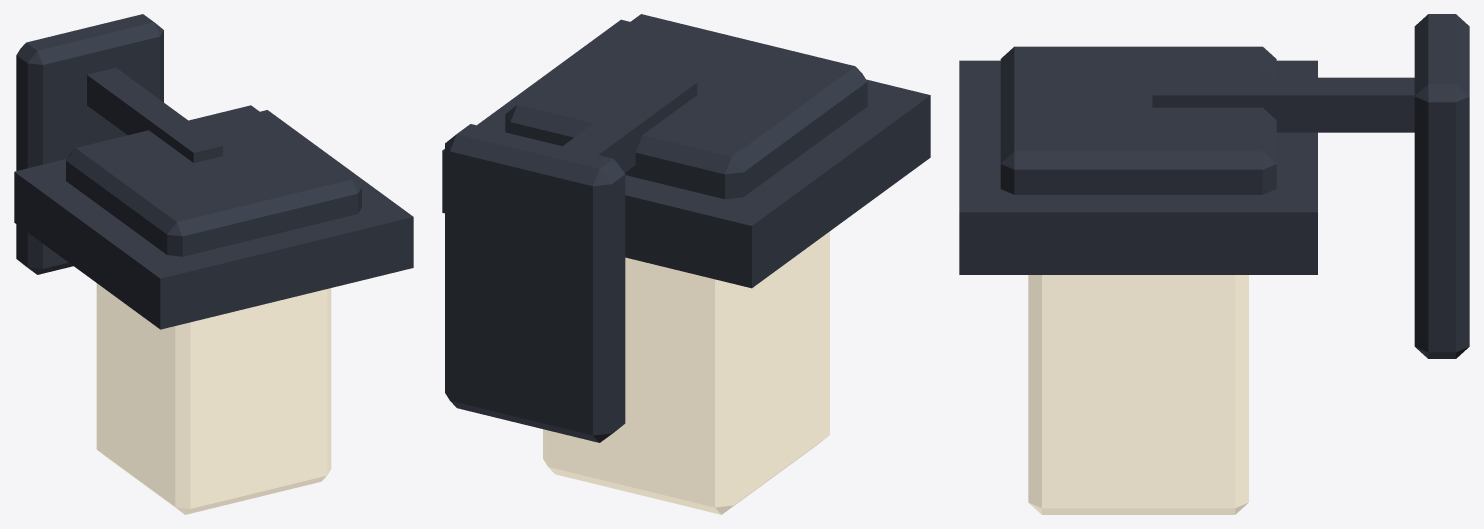
Rendered from wall_lantern.glb.
3 views of the same model, side by side, from view 1: azimuth 30°, elevation 25°; view 2: azimuth 150°, elevation 25°; view 3: azimuth 270°, elevation 25° (orthographic). The views are drawn at different scales.
Parts seen in each view (by area): view 1: wall_lantern; view 2: wall_lantern; view 3: wall_lantern.
Part boxes in pixels (x1,y1,x2,y2): wall_lantern: [14, 14, 413, 514]; wall_lantern: [442, 14, 930, 514]; wall_lantern: [959, 14, 1469, 514].
Bounding box in the file's own units: 0.26 × 0.34 × 0.37.
2 materials, 2 textured.
